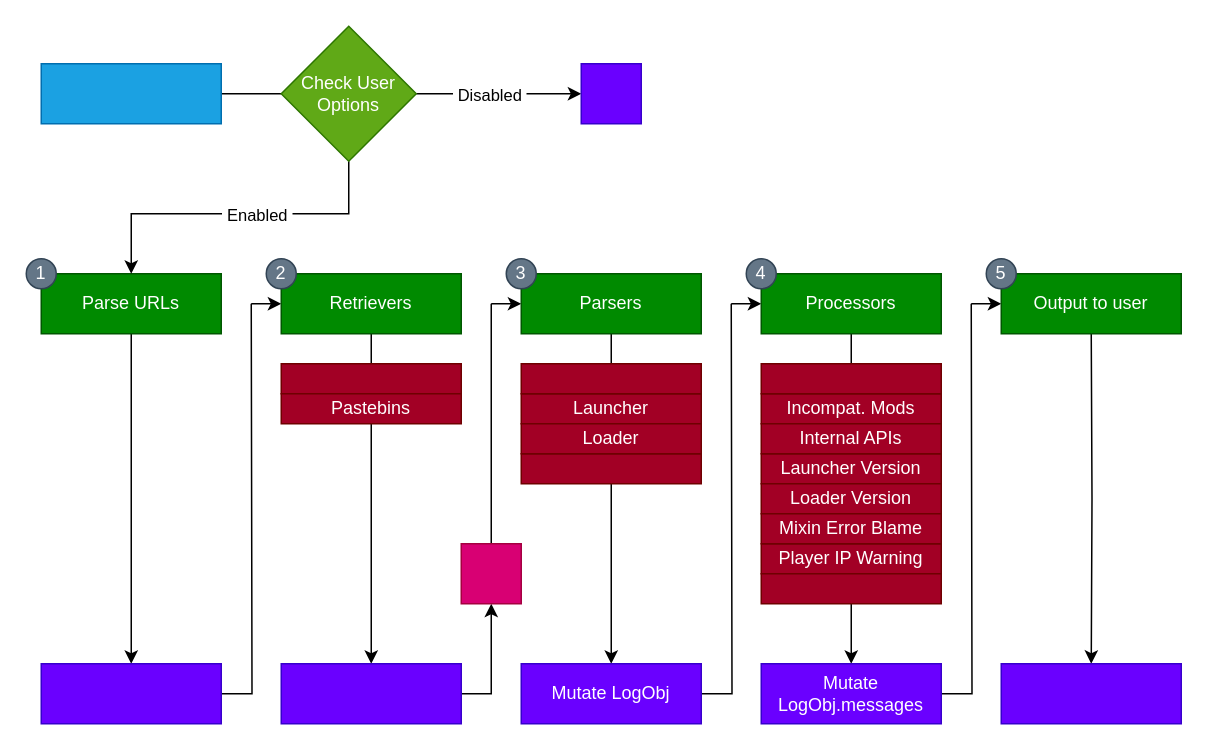
This 1208x750 diagram has some shape labels left out. Each missing label, with the centre of its shape:
Attachments: point 370,378
Common Issues: point 850,378
Discord Message: point 1090,693
Each: point 490,573
Environment: point 610,378
List<LogObj>: point 370,693
List<Url>: point 130,693
Message Event: point 130,93
Mod Versions: point 610,468
QSL/QFAPI Version: point 850,588
Stop: point 610,93
